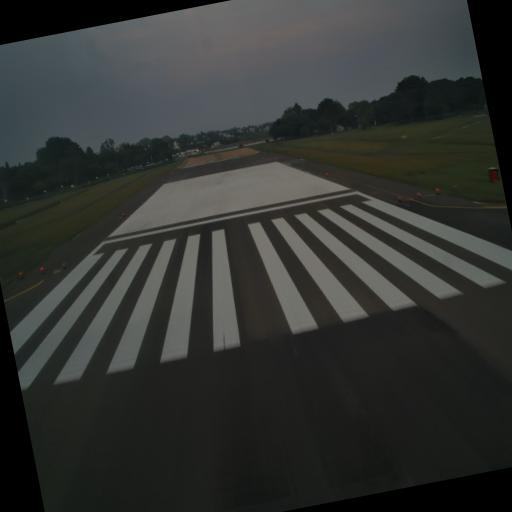on: (58, 256, 68, 272), (414, 186, 424, 200), (36, 260, 46, 274), (432, 182, 441, 196), (396, 190, 404, 205), (15, 269, 24, 280)
